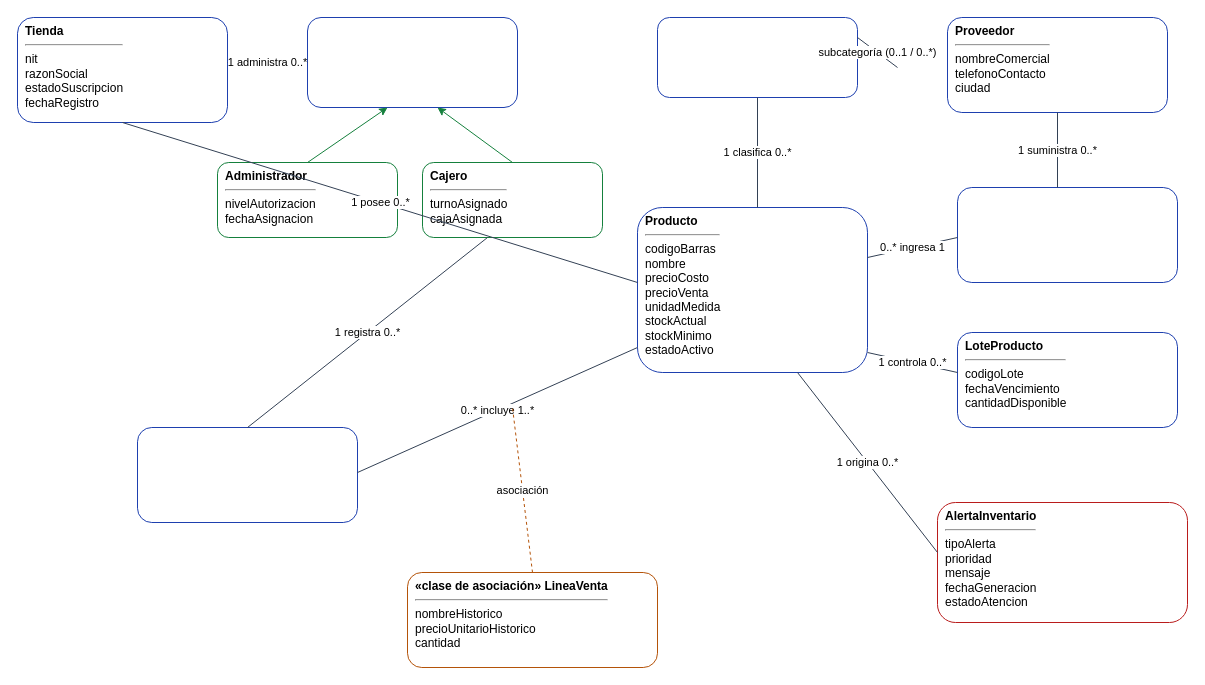
Image size: 1205x685. Some labels were removed from this diagram. The shapes that lost their labels are listed below. From the top down, each one's centre as x and y in pixels, then its label:
the point at 412,62: Usuario nombreUsuario correo estadoActivo
the point at 757,57: Categoria nombre descripcion
the point at 1067,234: CompraReabastecimiento fechaCompra cantidadIngresada costoUnitario
the point at 247,474: Venta fechaHora medioPago descuentoAplicado
